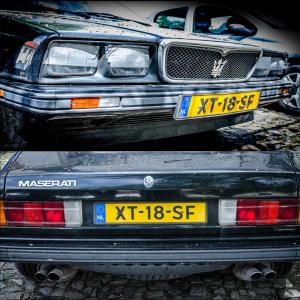Vehicle-registration-plate: (93, 202, 209, 227), (175, 90, 262, 122)
